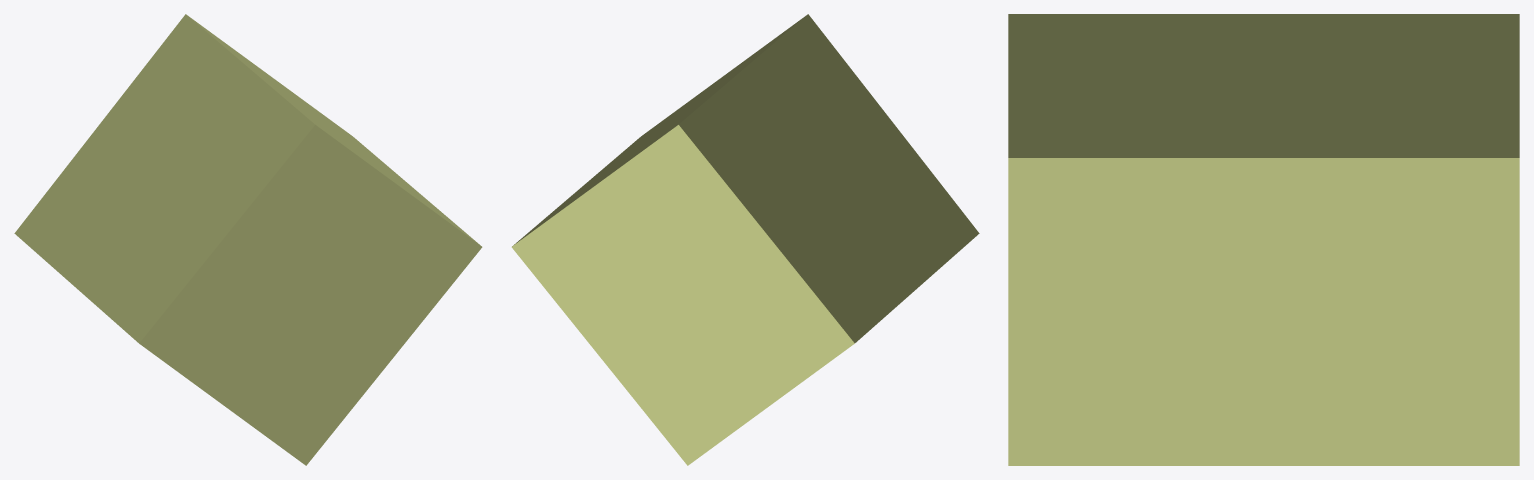
The picture shows the model from 3 angles, left to right: view 1: azimuth 30°, elevation 25°; view 2: azimuth 150°, elevation 25°; view 3: azimuth 270°, elevation 25°; orthographic projection. The views are drawn at different scales.
Parts seen in each view (by area): view 1: 0_0_1_1_3_2_0_3_1_1; view 2: 0_0_1_1_3_2_0_3_1_1; view 3: 0_0_1_1_3_2_0_3_1_1.
Part boxes in pixels (x1=…): 0_0_1_1_3_2_0_3_1_1: x1=14, y1=14, x2=482, y2=465; 0_0_1_1_3_2_0_3_1_1: x1=511, y1=14, x2=979, y2=465; 0_0_1_1_3_2_0_3_1_1: x1=1008, y1=14, x2=1519, y2=465.
Bounding box in the file's own units: 9.35 × 9.45 × 9.
